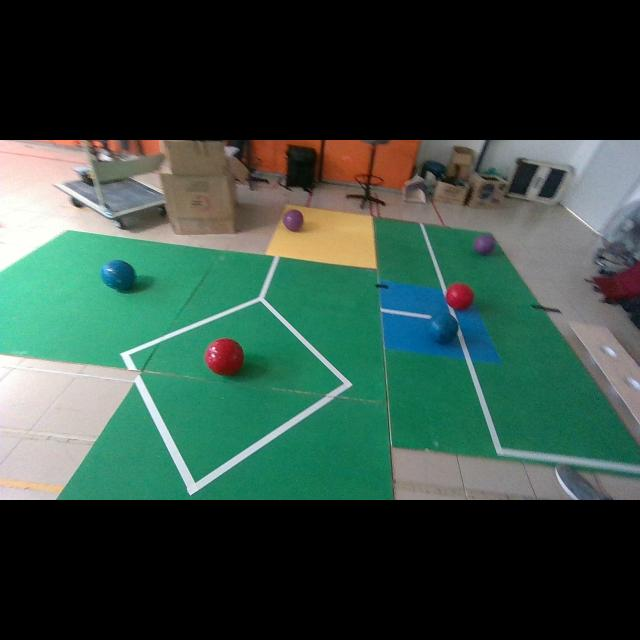B: (100, 260, 136, 290), (429, 312, 458, 343)
P: (284, 210, 304, 231), (474, 235, 495, 254)
R: (205, 339, 242, 374), (446, 282, 474, 310)
